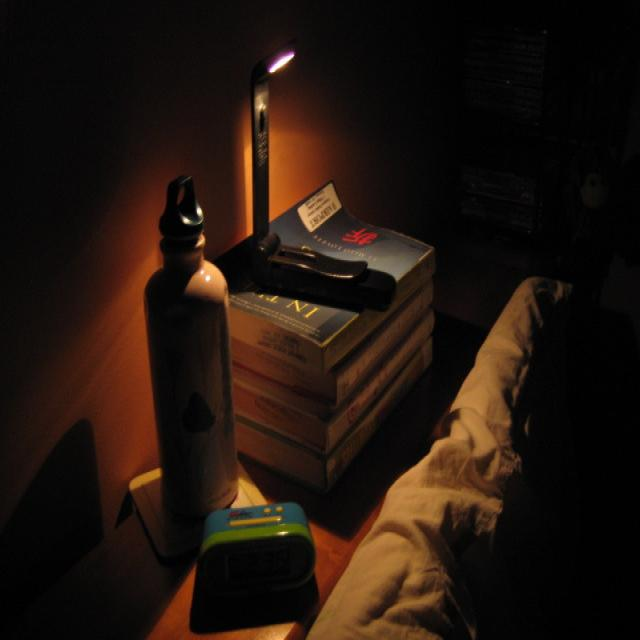Bottle: (145, 167, 241, 533)
